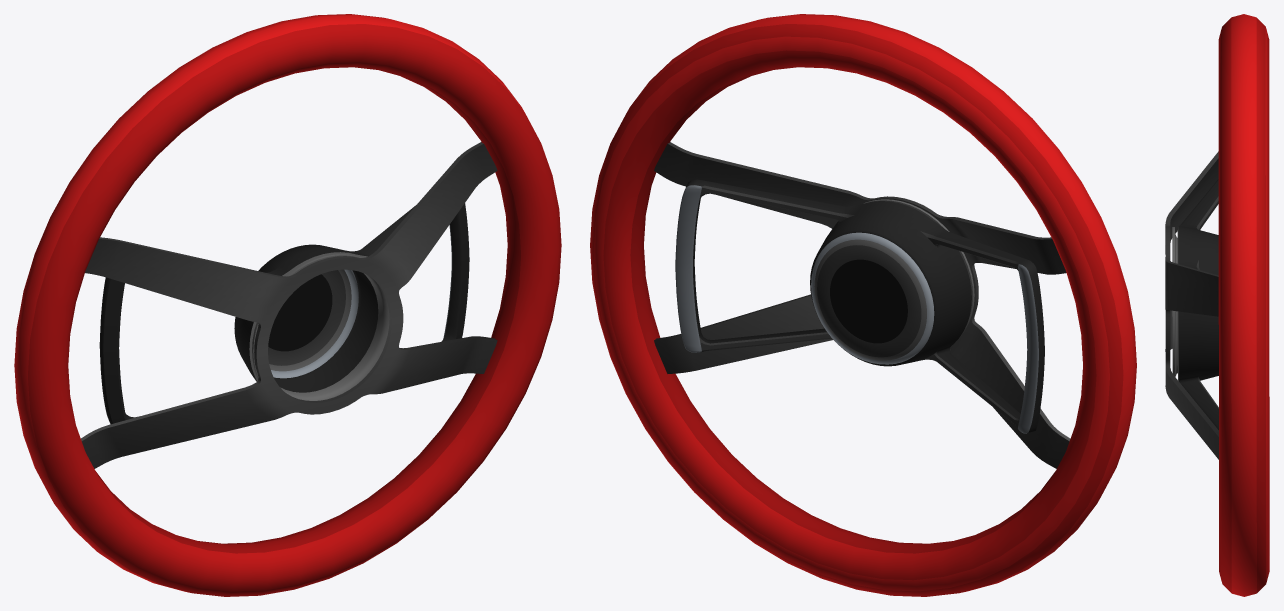
The model's file is Basic Steering.fbx.
The picture shows the model from 3 angles, left to right: view 1: azimuth 30°, elevation 25°; view 2: azimuth 150°, elevation 25°; view 3: azimuth 270°, elevation 25°; orthographic projection. The views are drawn at different scales.
Parts seen in each view (by area): view 1: Basic_Steering; view 2: Basic_Steering; view 3: Basic_Steering.
Part boxes in pixels (<box>): Basic_Steering: <box>14,14,561,596</box>; Basic_Steering: <box>590,14,1136,596</box>; Basic_Steering: <box>1165,14,1269,596</box>.
Size of the model in its own units: 112 by 112 by 19.93.
